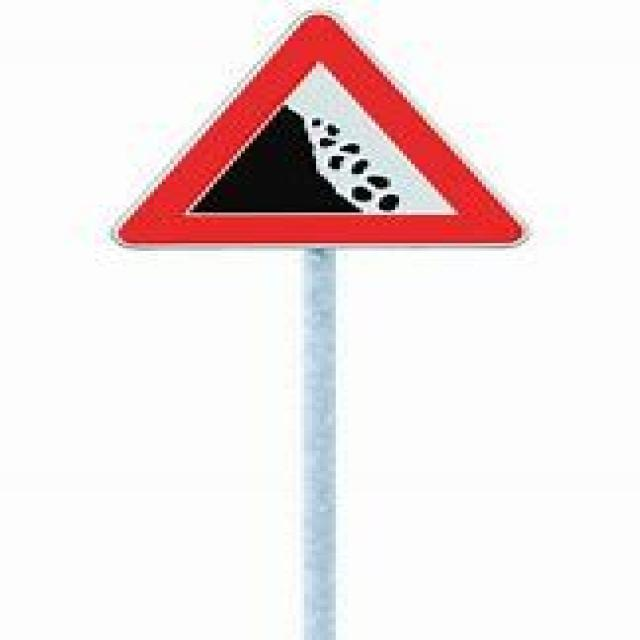falling rocks: (100, 14, 548, 254)
